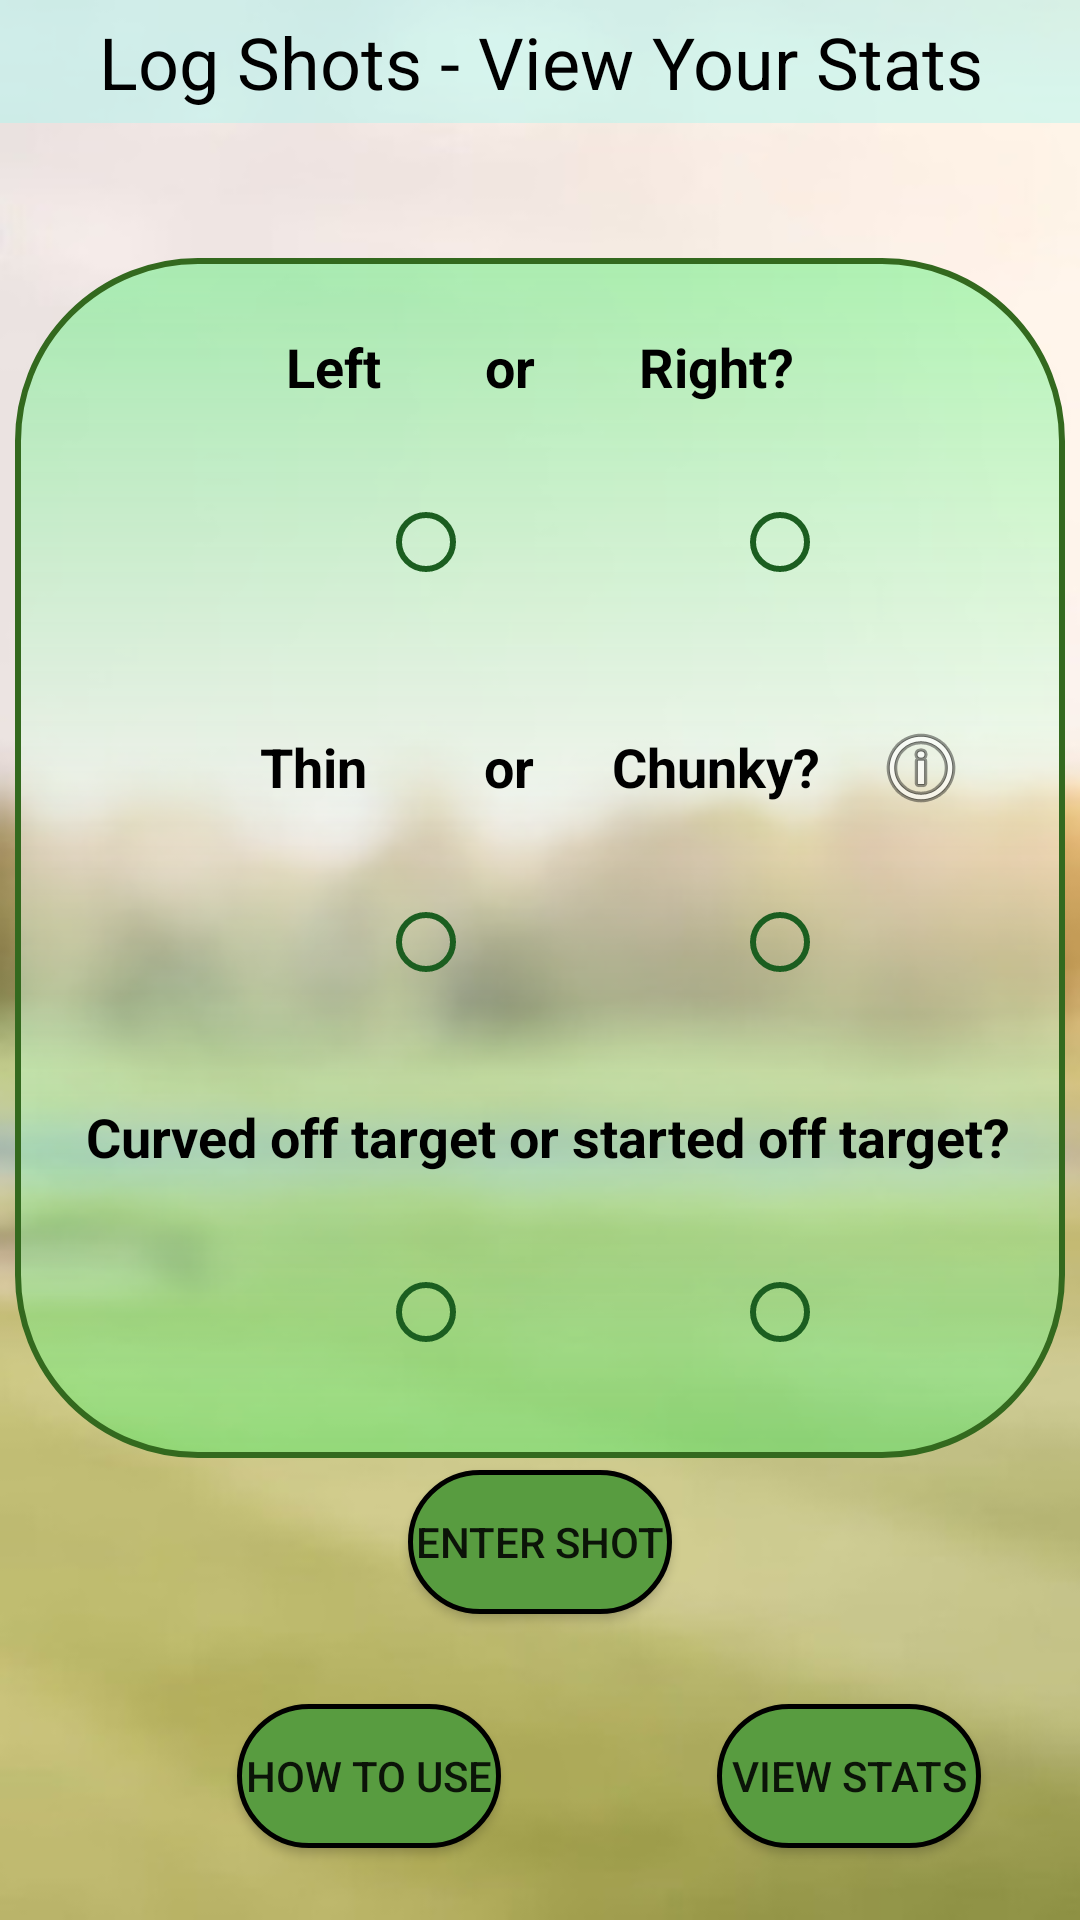

Where icons sit on this 1080 × 1920 app screen, as (x1, y1, x2, y2):
info details: (873, 733, 969, 816)
